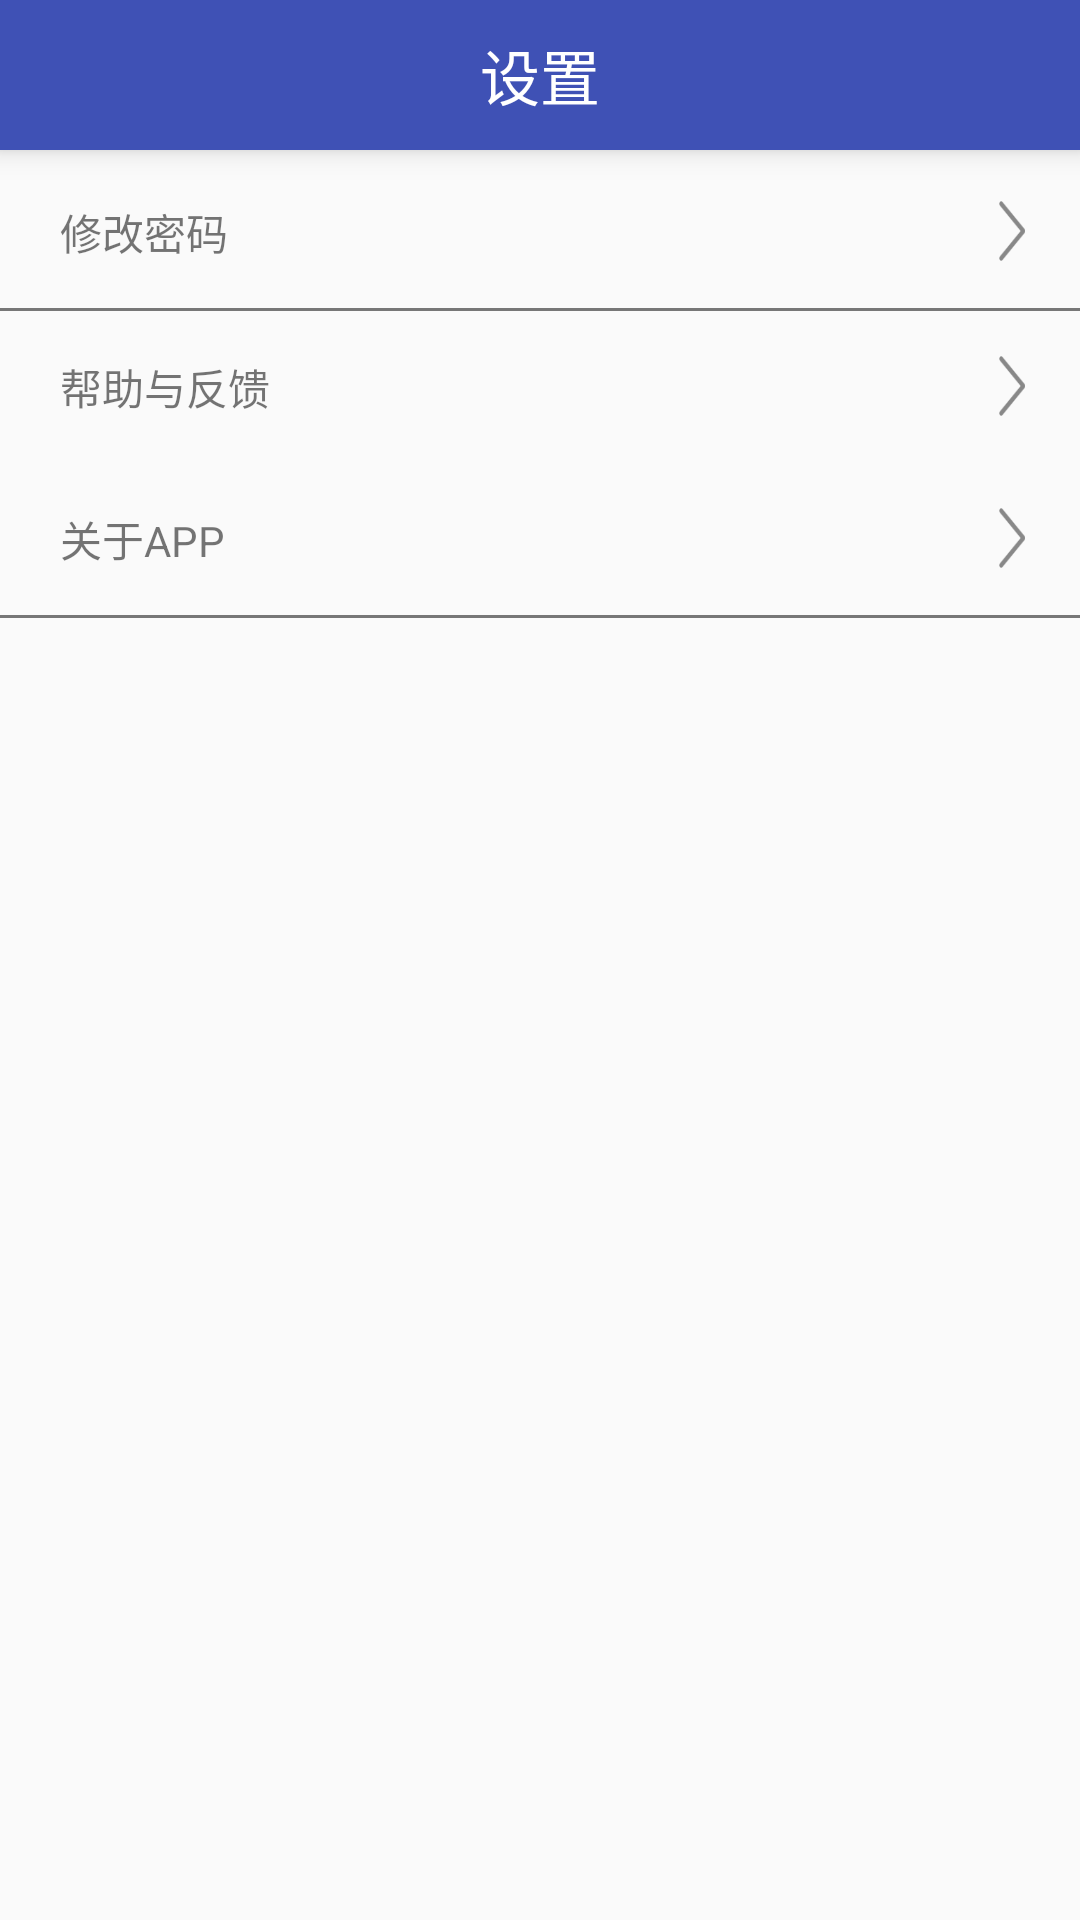

Named icons in this screenshot (1080 x 1920) and their centers, point (x, y):
arrow: point (1012, 231), point (1012, 386), point (1012, 538)
